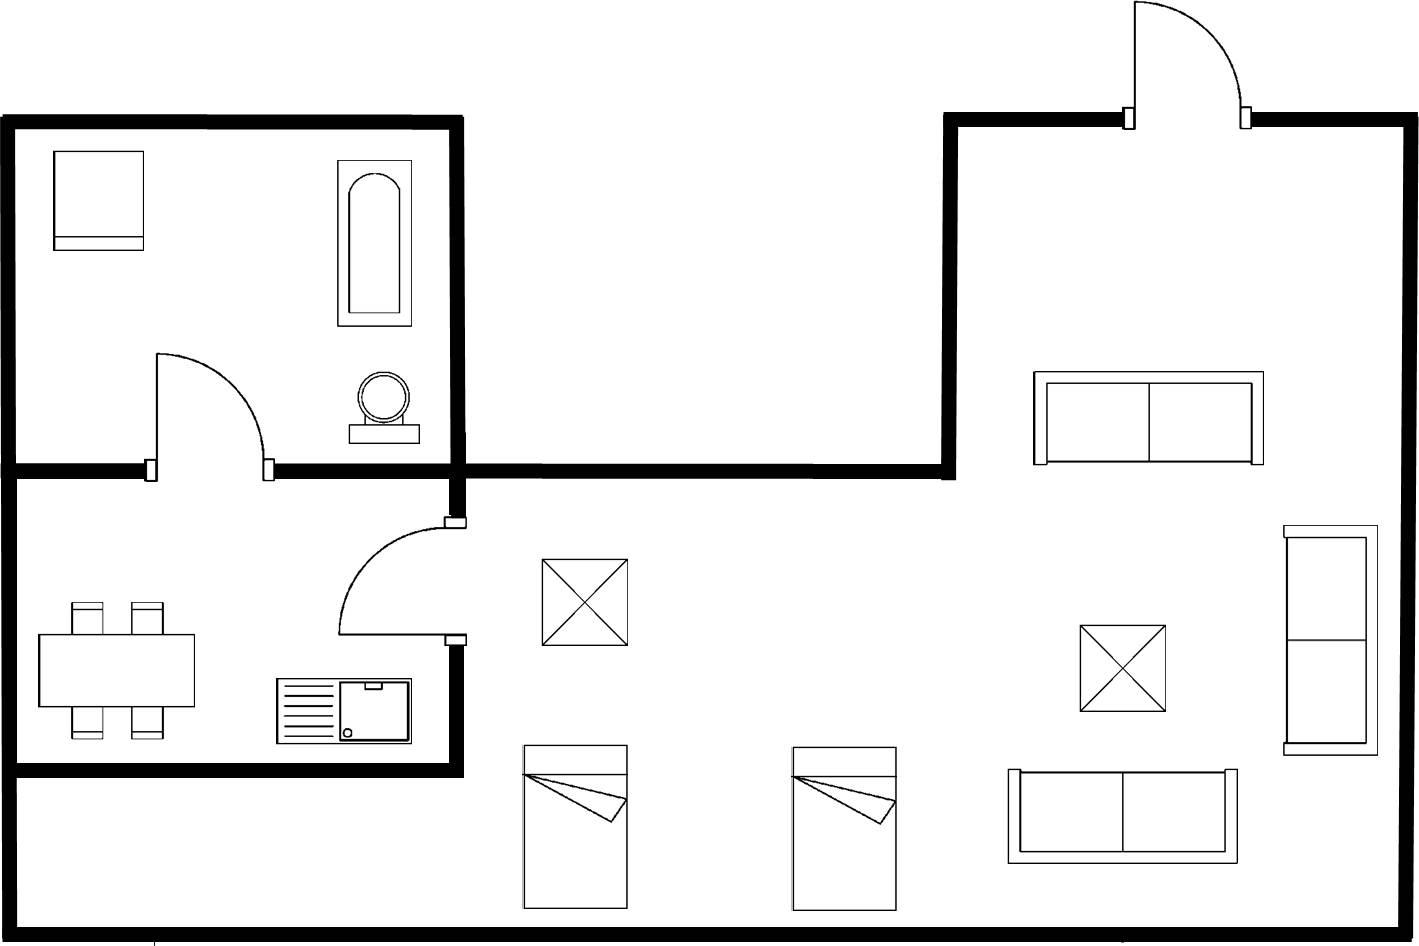bed: (516, 736, 633, 914), (786, 741, 904, 917)
dining_table: (33, 595, 200, 748)
sink: (267, 669, 418, 751)
sofa: (997, 758, 1247, 873), (1275, 517, 1385, 764), (1025, 365, 1271, 472)
toilet: (343, 364, 424, 451)
tub: (330, 154, 416, 334)
